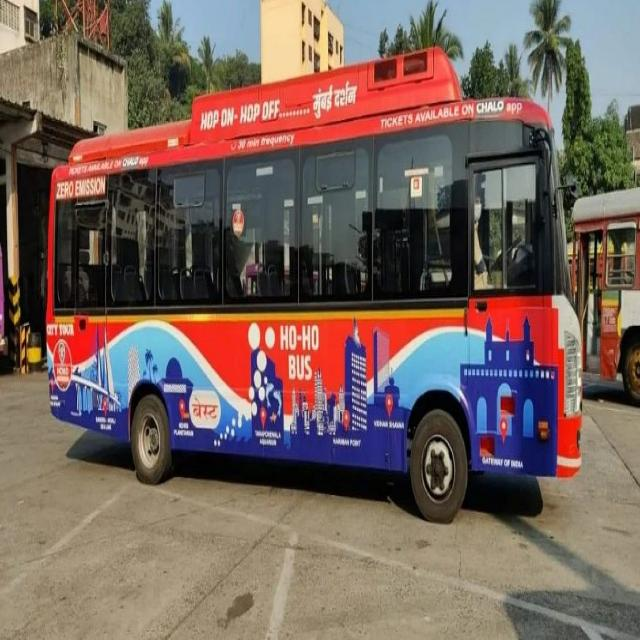bus: (43, 99, 586, 524)
